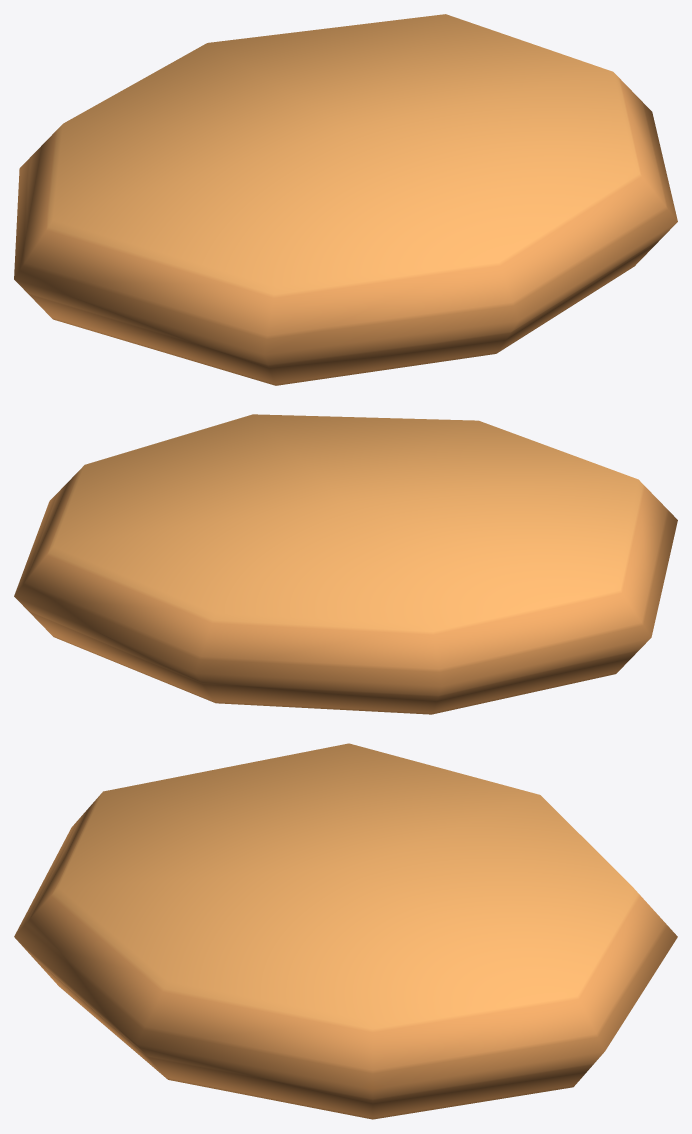
Rendered from ground_001.fbx.
The picture shows the model from 3 angles, top to bottom: view 1: azimuth 30°, elevation 25°; view 2: azimuth 150°, elevation 25°; view 3: azimuth 270°, elevation 25°; orthographic projection. The views are drawn at different scales.
Parts seen in each view (by area): view 1: ground.001; view 2: ground.001; view 3: ground.001.
Part boxes in pixels (x1=…): ground.001: x1=14, y1=14, x2=677, y2=385; ground.001: x1=14, y1=414, x2=677, y2=714; ground.001: x1=14, y1=743, x2=677, y2=1119.
Bounding box in the file's own units: 54.81 × 10.83 × 48.78.
